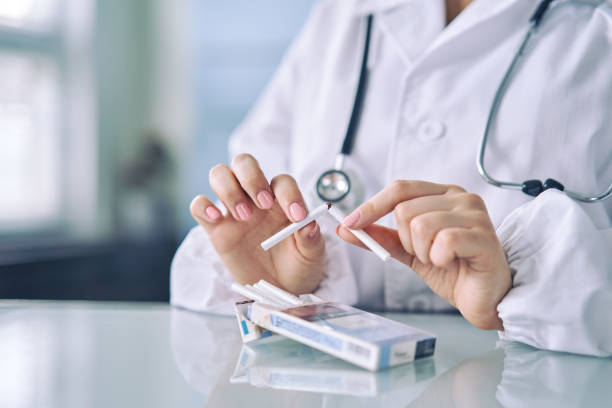cigarette: (231, 292, 438, 373), (259, 199, 332, 263), (326, 202, 392, 263), (228, 282, 289, 312), (243, 283, 295, 309), (257, 279, 306, 303), (252, 283, 298, 307)
